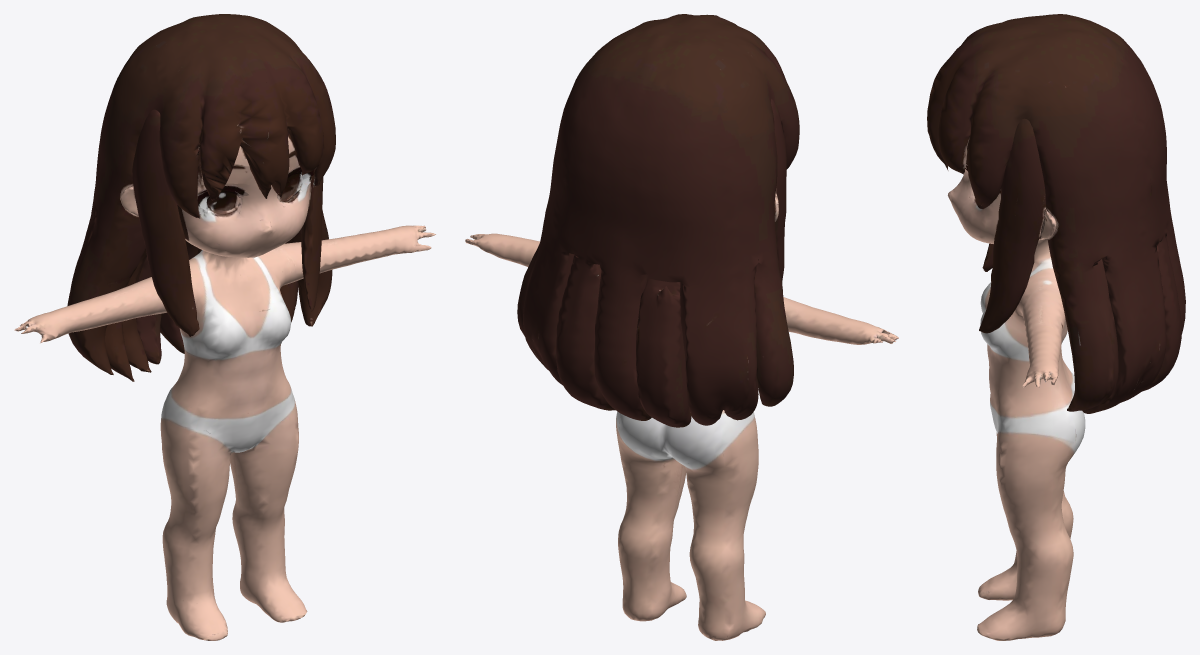
The model's file is ChibiBrownHairStatic.fbx.
The picture shows the model from 3 angles, left to right: view 1: azimuth 30°, elevation 25°; view 2: azimuth 150°, elevation 25°; view 3: azimuth 270°, elevation 25°; orthographic projection. The views are drawn at different scales.
Visible parts, largest first — view 1: Mesh0; view 2: Mesh0; view 3: Mesh0.
Boxes of the visible parts, x1=… form: Mesh0: x1=14, y1=14, x2=435, y2=640; Mesh0: x1=465, y1=14, x2=898, y2=640; Mesh0: x1=927, y1=14, x2=1185, y2=640.
Size of the model in its own units: 75.37 by 100 by 39.98.
Materials: 1 (1 with a texture image).
